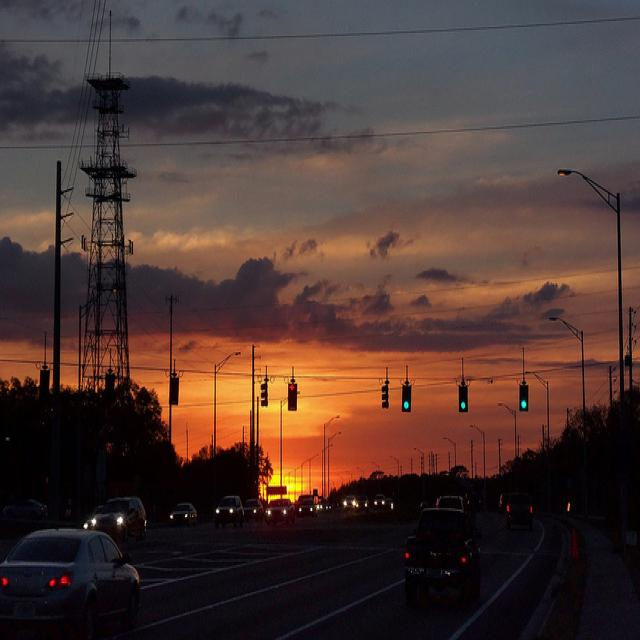Car: (28, 476, 154, 640), (398, 484, 498, 608), (210, 482, 251, 549), (255, 496, 301, 534)
